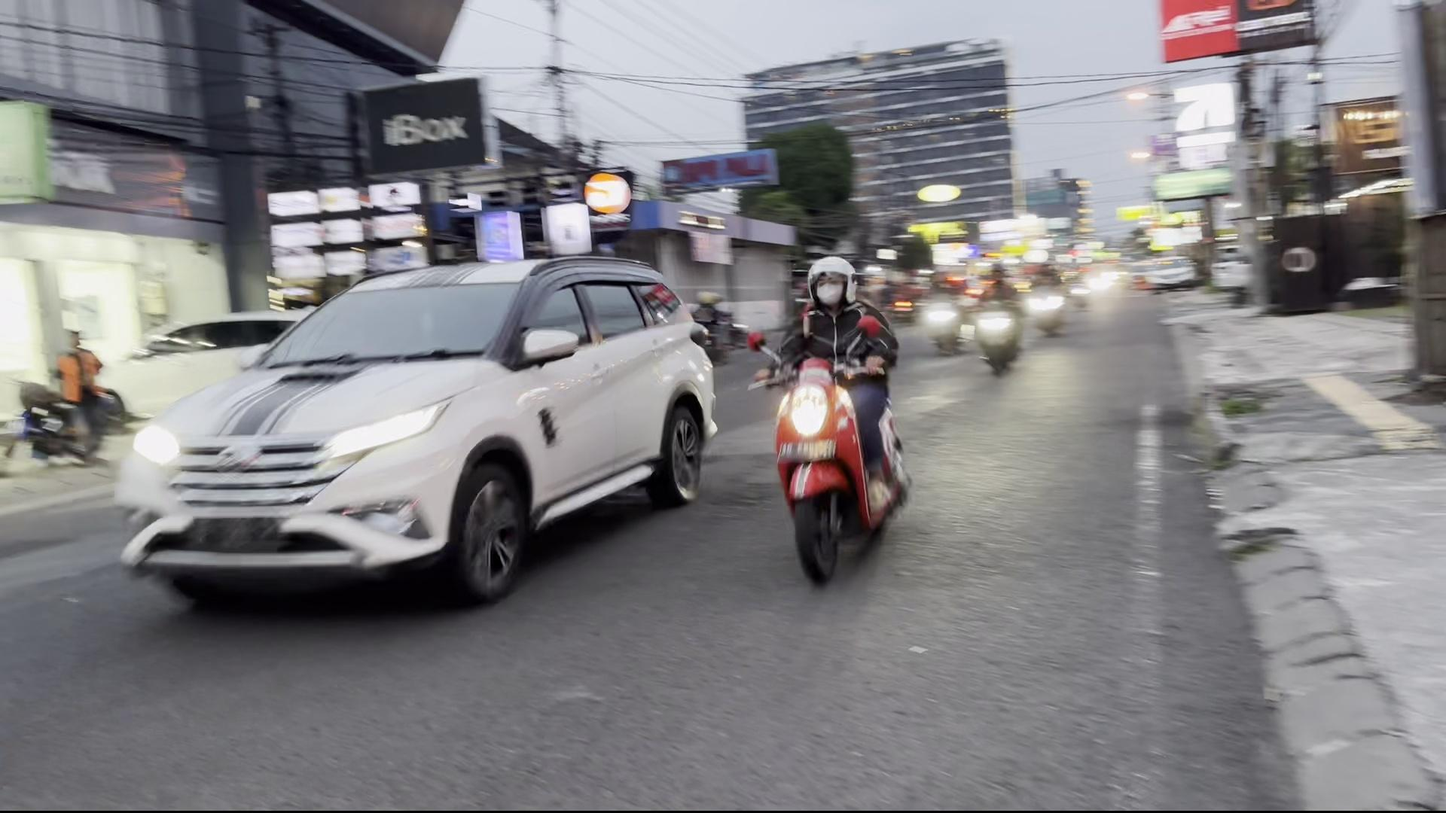helm: (800, 253, 863, 314)
riding: (742, 251, 926, 591)
